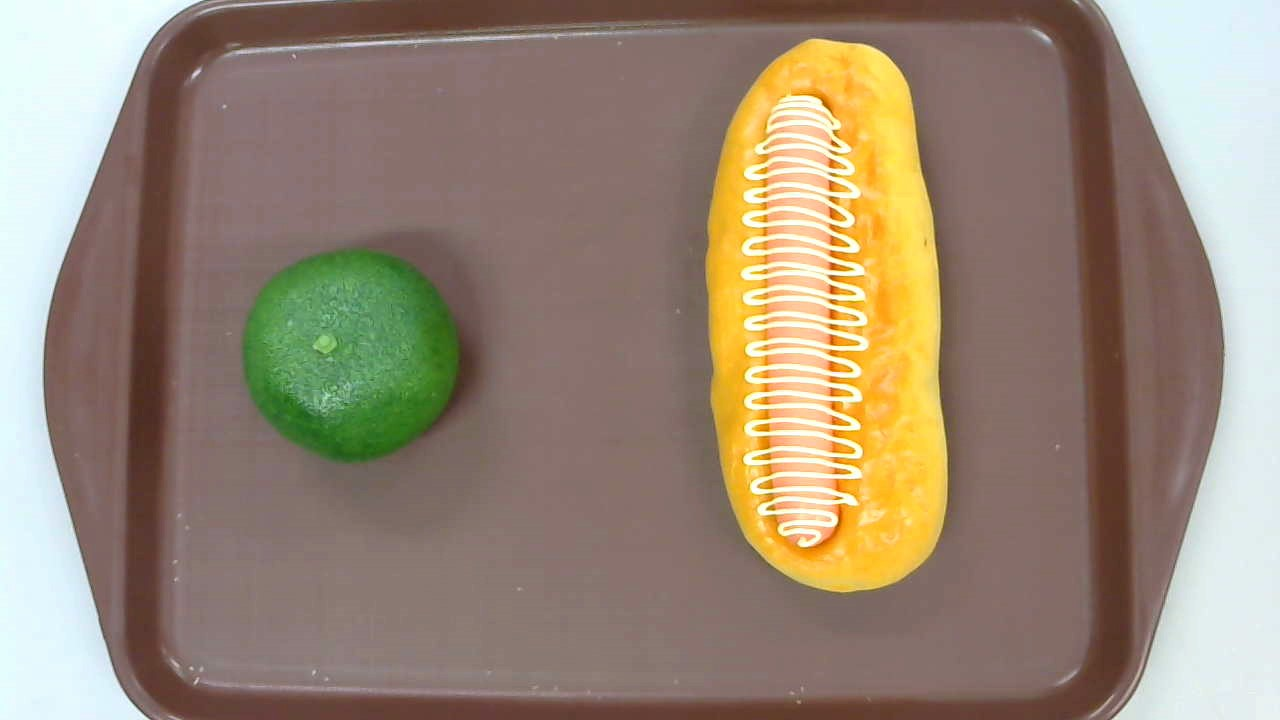green orange: (242, 250, 459, 461)
hot dog: (704, 38, 948, 594)
